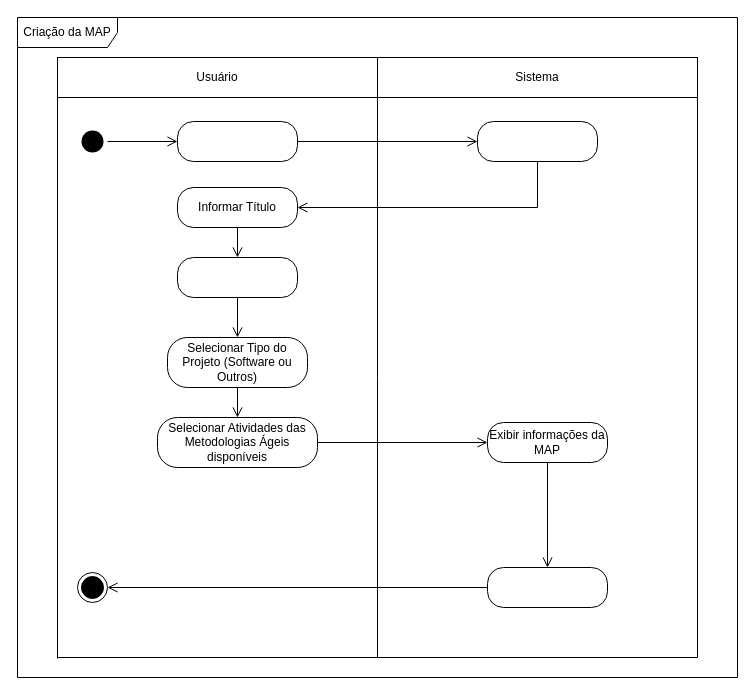
This 755x695 diagram has some shape labels left out. Each missing label, with the box of its shape:
Abrir nova aba: (476, 120, 598, 162)
Criar Metodologia Personalizada: (176, 120, 298, 162)
Exibir informações dos Apps integrados: (486, 566, 608, 608)
Informar Descrição: (176, 256, 298, 298)
